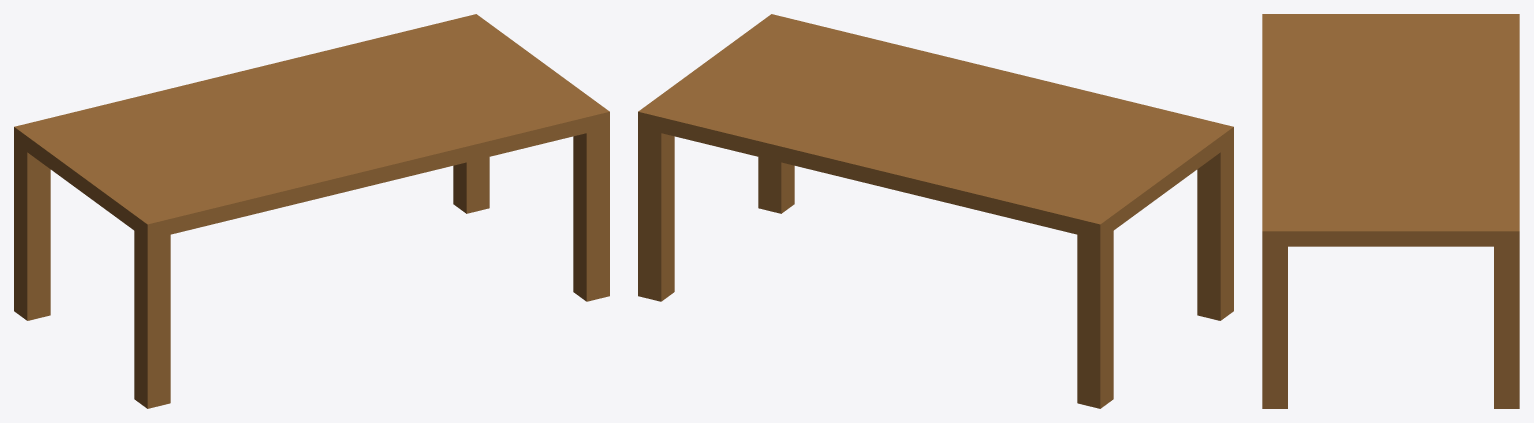
File: table.fbx
The picture shows the model from 3 angles, left to right: view 1: azimuth 30°, elevation 25°; view 2: azimuth 150°, elevation 25°; view 3: azimuth 270°, elevation 25°; orthographic projection. The views are drawn at different scales.
Parts seen in each view (by area): view 1: Cube, Cube.003, Cube.002, Cube.004, Cube.001; view 2: Cube, Cube.004, Cube.001, Cube.003, Cube.002; view 3: Cube, Cube.001, Cube.002.
Boxes of the visible parts, x1,y1,x2,y2 form: Cube: (14, 14, 609, 240); Cube.003: (134, 231, 170, 408); Cube.002: (573, 127, 609, 301); Cube.004: (14, 143, 50, 320); Cube.001: (453, 157, 489, 213); Cube: (638, 14, 1233, 239); Cube.004: (1077, 231, 1113, 408); Cube.001: (638, 127, 674, 301); Cube.003: (1197, 143, 1233, 320); Cube.002: (758, 157, 794, 213); Cube: (1262, 14, 1519, 246); Cube.001: (1494, 246, 1519, 408); Cube.002: (1262, 246, 1287, 408).
Size of the model in its own units: 400 by 153 by 200.
